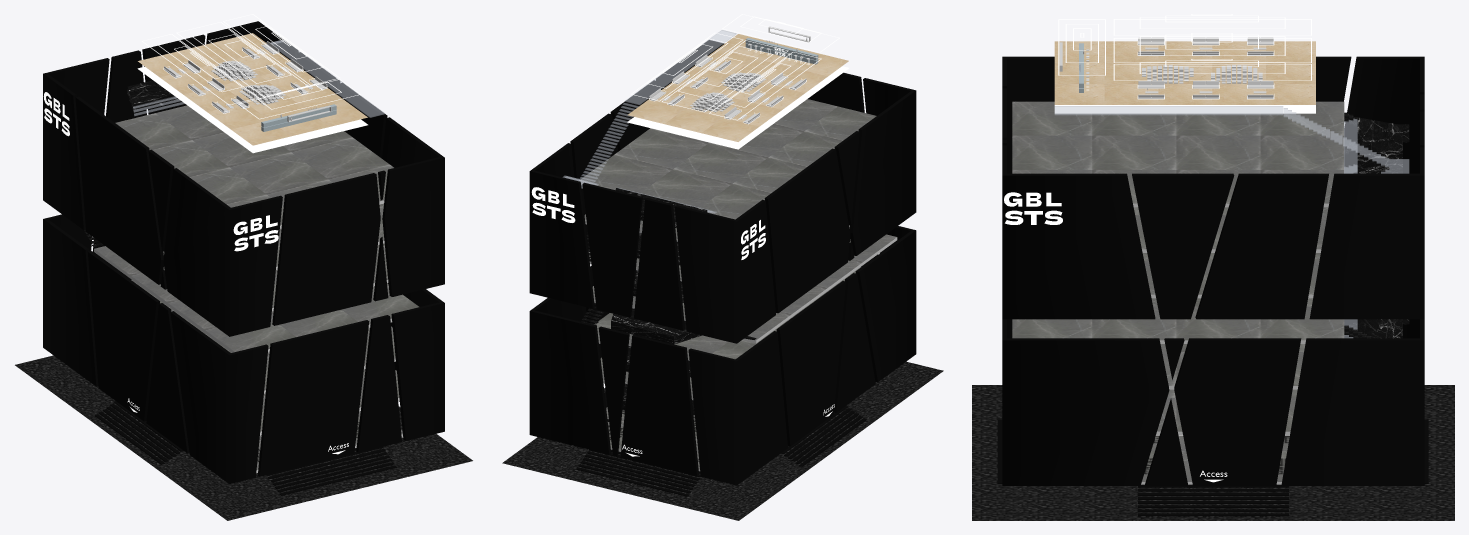
The model's file is Edificio.glb.
The picture shows the model from 3 angles, left to right: view 1: azimuth 30°, elevation 25°; view 2: azimuth 150°, elevation 25°; view 3: azimuth 270°, elevation 25°; orthographic projection. The views are drawn at different scales.
Parts seen in each view (by area): view 1: LOU_7_SLICED, TODOS_LOS_MARMOLES, PIEDRAS_NEGRAS_DEL_PISO, PISO_HEAVEN.002, Escalinata_3.004, 4_PIRAMIDES_NEON.001, PLANO_DE_LUZ, Escalinata_2.010, FUENTE_B_MENOR.001, SOFA.002, LETRA_S.001, oficina_T.001 (+2 smaller); view 2: LOU_7_SLICED, TODOS_LOS_MARMOLES, PIEDRAS_NEGRAS_DEL_PISO, PISO_HEAVEN.002, Escalinata_3.004, Escalinata_2.010, 4_PIRAMIDES_NEON.001, PLANO_DE_LUZ, oficina_T.006, FUENTE_B_MENOR.001, SOFA.002, LETRA_S.001 (+2 smaller); view 3: LOU_7_SLICED, TODOS_LOS_MARMOLES, PIEDRAS_NEGRAS_DEL_PISO, PISO_HEAVEN.002, Escalinata_3.004, Escalinata_2.010, 4_PIRAMIDES_NEON.001, oficina_T.001, PLANO_DE_LUZ, SOFA.002, FUENTE_B_MENOR.001, LETRA_S.001 (+4 smaller).
Boxes of the visible parts, x1,y1,x2,y2 form: LOU_7_SLICED: (43, 21, 444, 483); TODOS_LOS_MARMOLES: (94, 105, 418, 431); PIEDRAS_NEGRAS_DEL_PISO: (15, 355, 472, 520); PISO_HEAVEN.002: (138, 33, 367, 145); Escalinata_3.004: (94, 401, 396, 495); 4_PIRAMIDES_NEON.001: (142, 14, 360, 119); PLANO_DE_LUZ: (137, 66, 399, 435); Escalinata_2.010: (270, 40, 384, 117); FUENTE_B_MENOR.001: (211, 60, 285, 105); SOFA.002: (164, 41, 327, 113); LETRA_S.001: (43, 92, 445, 251); oficina_T.001: (127, 80, 180, 112); LOU_7_SLICED: (529, 40, 916, 485); TODOS_LOS_MARMOLES: (579, 99, 896, 399); PIEDRAS_NEGRAS_DEL_PISO: (502, 361, 943, 520); PISO_HEAVEN.002: (627, 34, 848, 141); Escalinata_3.004: (576, 392, 866, 496); Escalinata_2.010: (563, 30, 736, 188); 4_PIRAMIDES_NEON.001: (631, 14, 839, 120); PLANO_DE_LUZ: (603, 66, 848, 384); oficina_T.006: (611, 308, 701, 344); FUENTE_B_MENOR.001: (690, 72, 766, 112); SOFA.002: (649, 54, 806, 123); LETRA_S.001: (531, 47, 785, 259); LOU_7_SLICED: (1002, 56, 1424, 485); TODOS_LOS_MARMOLES: (1012, 101, 1344, 431); PIEDRAS_NEGRAS_DEL_PISO: (972, 385, 1454, 520); PISO_HEAVEN.002: (1054, 41, 1315, 104); Escalinata_3.004: (997, 419, 1428, 516); Escalinata_2.010: (1054, 106, 1409, 173); 4_PIRAMIDES_NEON.001: (1058, 14, 1311, 80); oficina_T.001: (1357, 117, 1402, 173); PLANO_DE_LUZ: (1054, 105, 1315, 435); SOFA.002: (1138, 37, 1273, 98); FUENTE_B_MENOR.001: (1142, 65, 1262, 83); LETRA_S.001: (1004, 192, 1062, 224).
Size of what is drawn, in the model's own units: 32 by 45.73 by 48.
16 materials, 10 textured.
